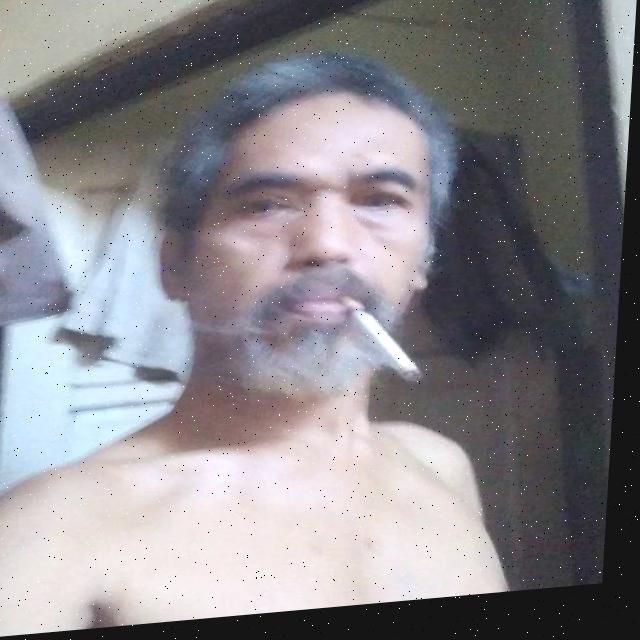cigarette: (343, 297, 430, 397)
